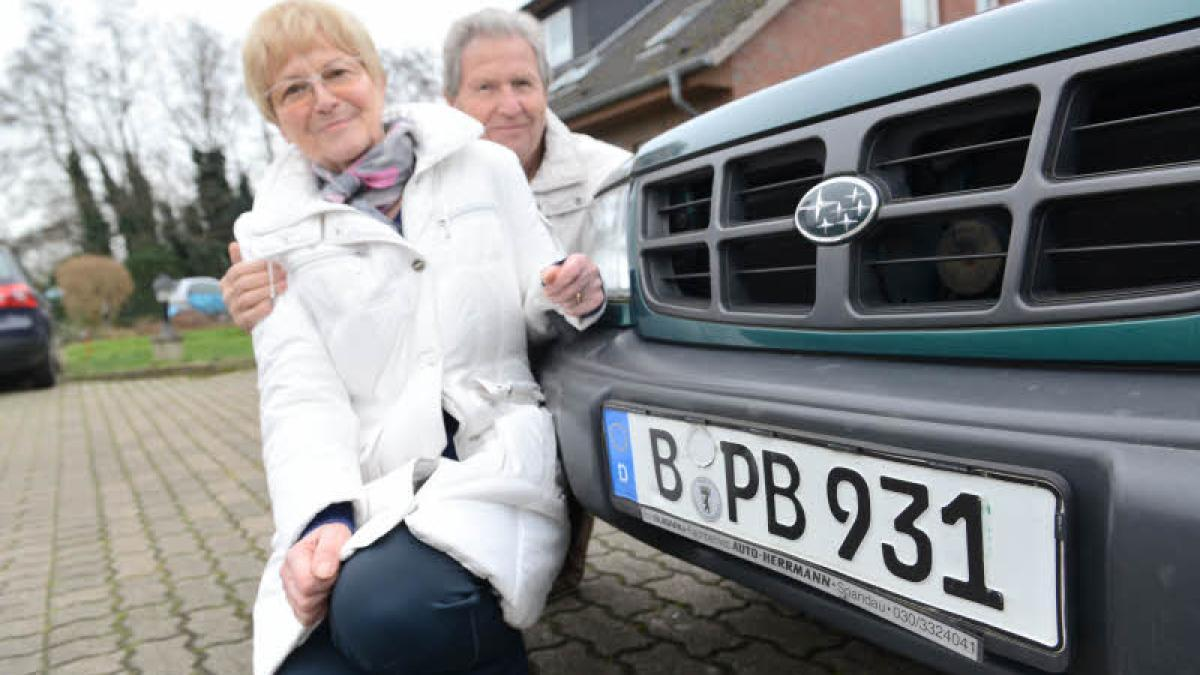license-plates: (604, 406, 1069, 660)
